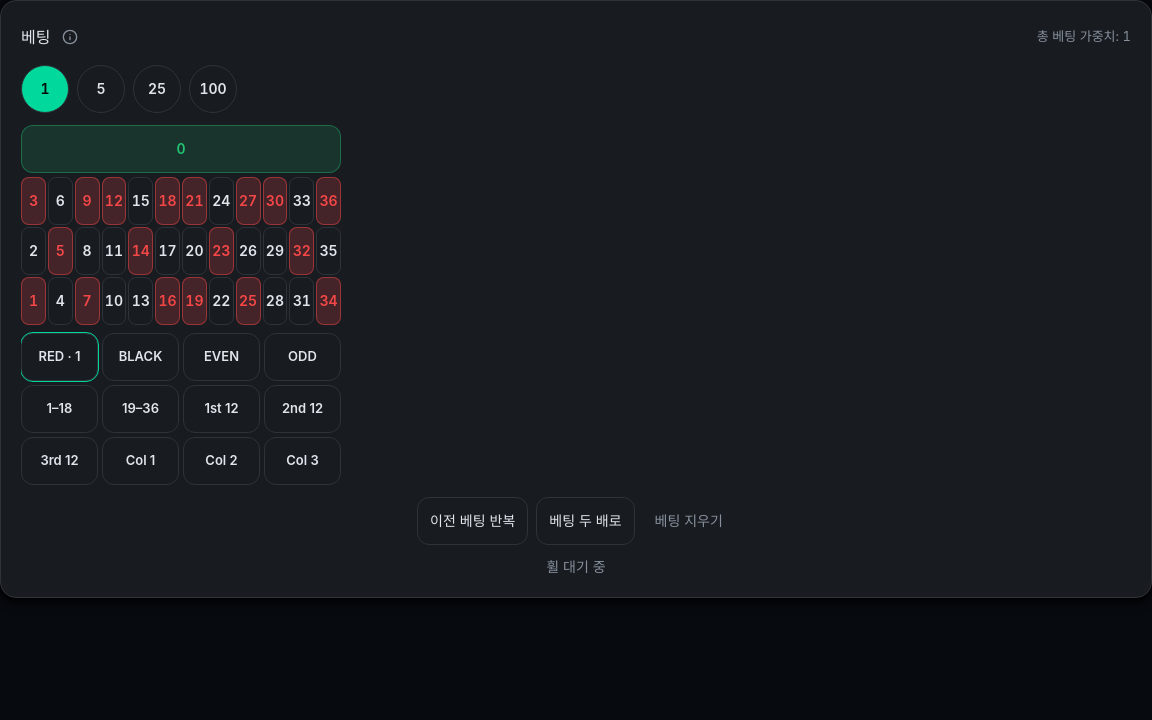
it: Casino games batch D stages (p10-games-batch-d) › roulette highlights winning number from RPC only
Click the button with test id "casino-roulette-pocket-17". click: (168, 251)
box: [155,227,180,275]
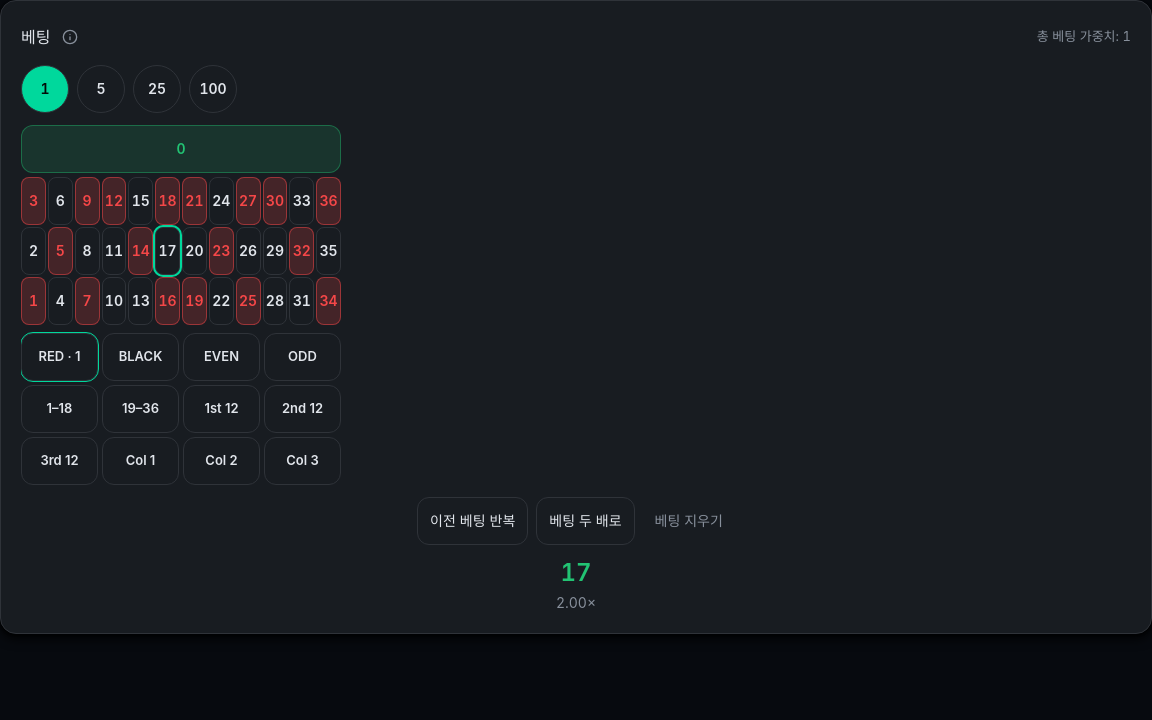
Now the text with test id "casino-roulette-winning-number" reads "17", box [560,558,592,587]
Now the text with test id "casino-roulette-mult" shows "2.00", box [556,594,587,611]
